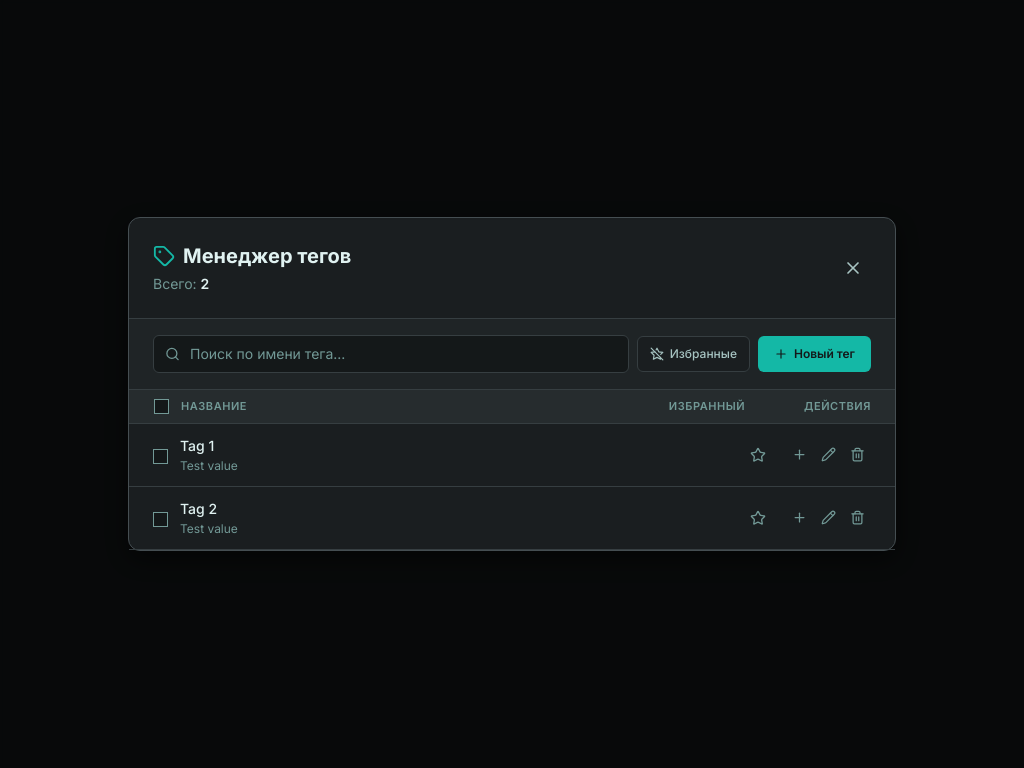
Test: TagManagerModal › Выбор тегов › кнопка 'Выбрать все' выбирает все теги
Check: the text "Tag 1" is shown, box x1=180 y1=437 x2=214 y2=454
Click the button named "Выбрать все" at (161, 406), box x1=153 y1=398 x2=169 y2=414
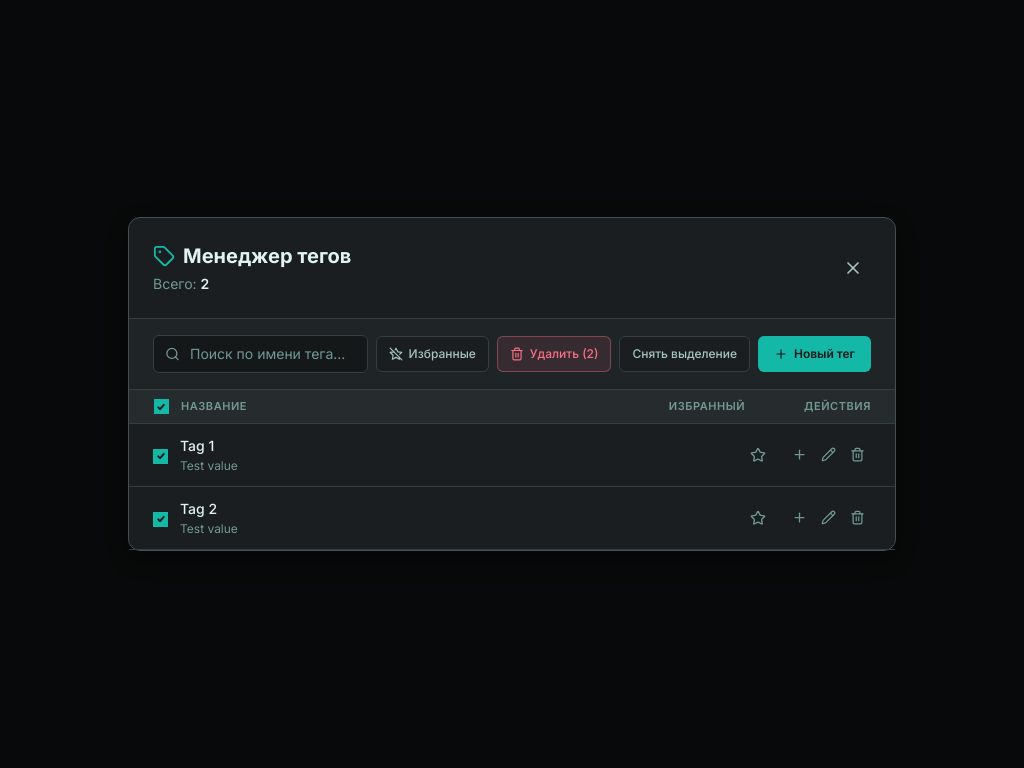
Check: the button "Удалить (2)" is shown, box x1=497 y1=336 x2=611 y2=372
